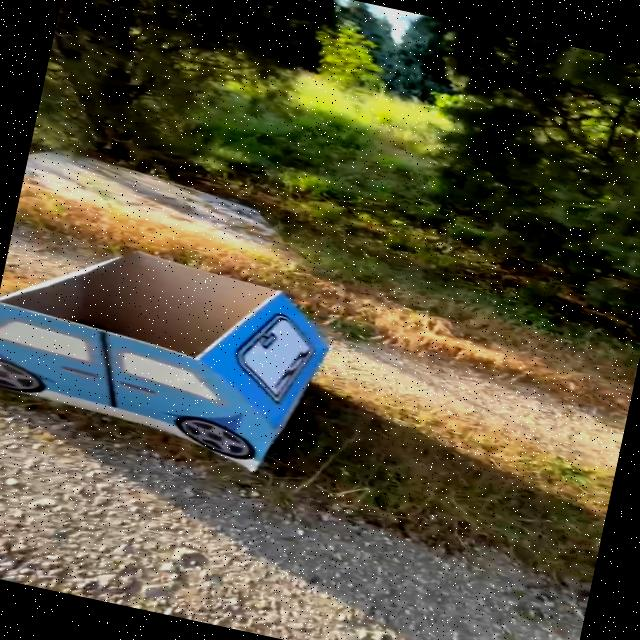blue_car: (0, 196, 417, 512)
